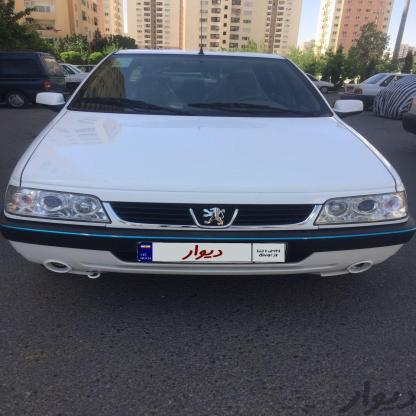Car: (0, 41, 416, 281), (0, 45, 63, 104), (351, 70, 416, 104), (55, 53, 94, 84)
